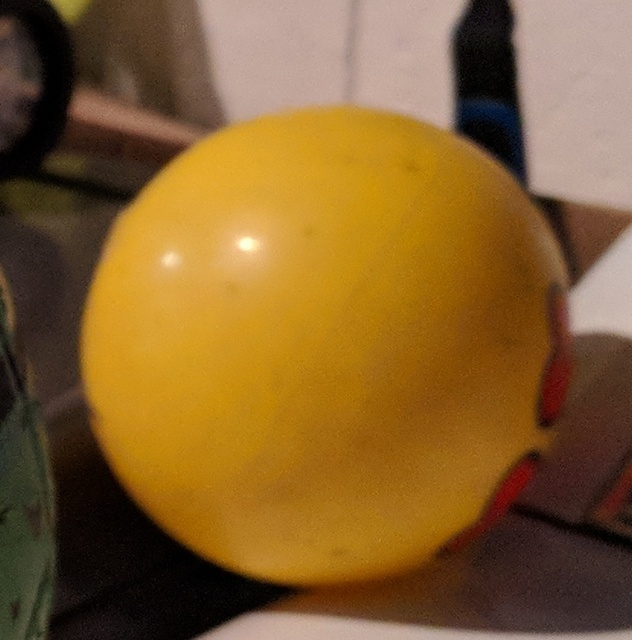ball: (75, 104, 572, 591)
